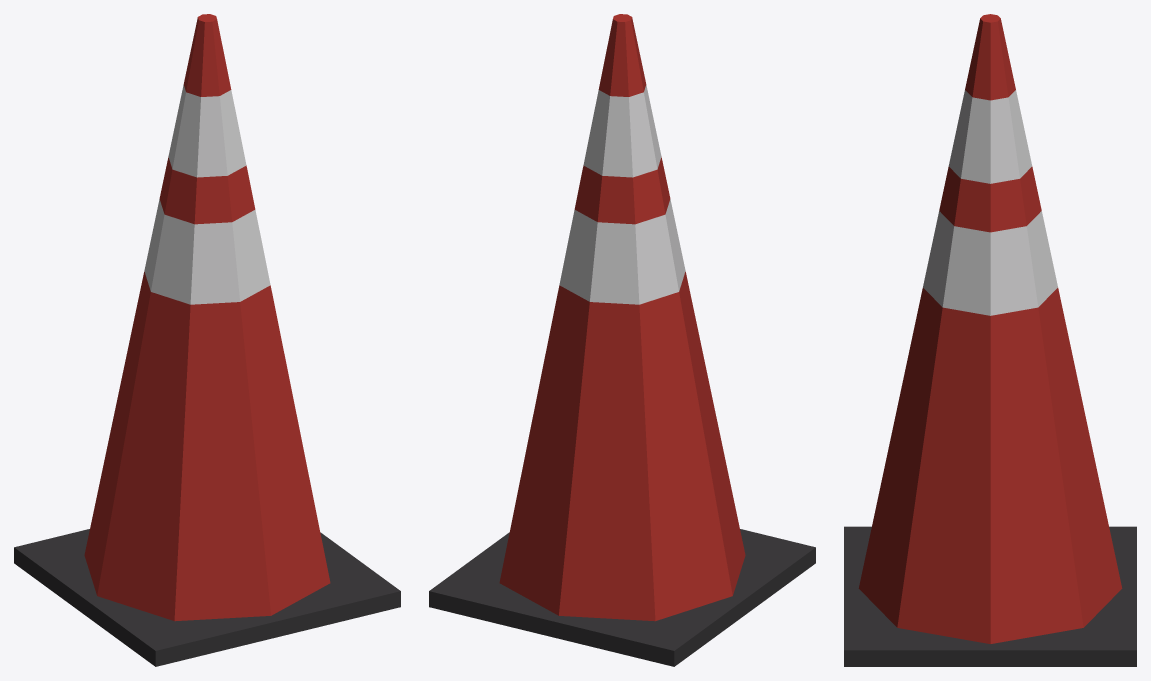
Rendered from SM_road_cone.gltf.
The picture shows the model from 3 angles, left to right: view 1: azimuth 30°, elevation 25°; view 2: azimuth 150°, elevation 25°; view 3: azimuth 270°, elevation 25°; orthographic projection. The views are drawn at different scales.
Visible parts, largest first — view 1: SM_road_cone; view 2: SM_road_cone; view 3: SM_road_cone.
Part boxes in pixels (bbox=[...]): SM_road_cone: bbox=[14, 14, 400, 666]; SM_road_cone: bbox=[429, 14, 815, 666]; SM_road_cone: bbox=[844, 14, 1136, 666].
Size of the model in its own units: 0.3434 by 0.7589 by 0.3434.
Materials: 1 (1 with a texture image).
